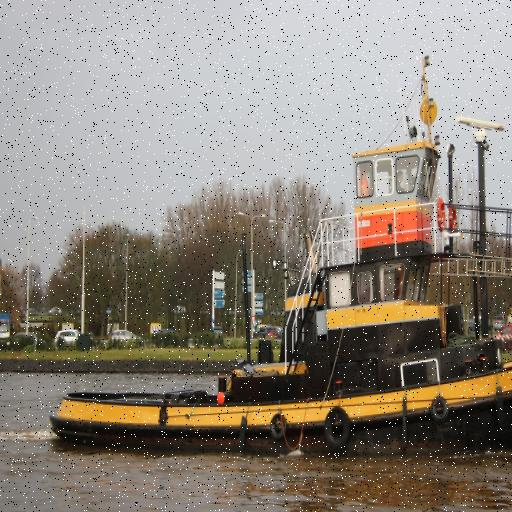tugboat: (46, 136, 512, 469)
